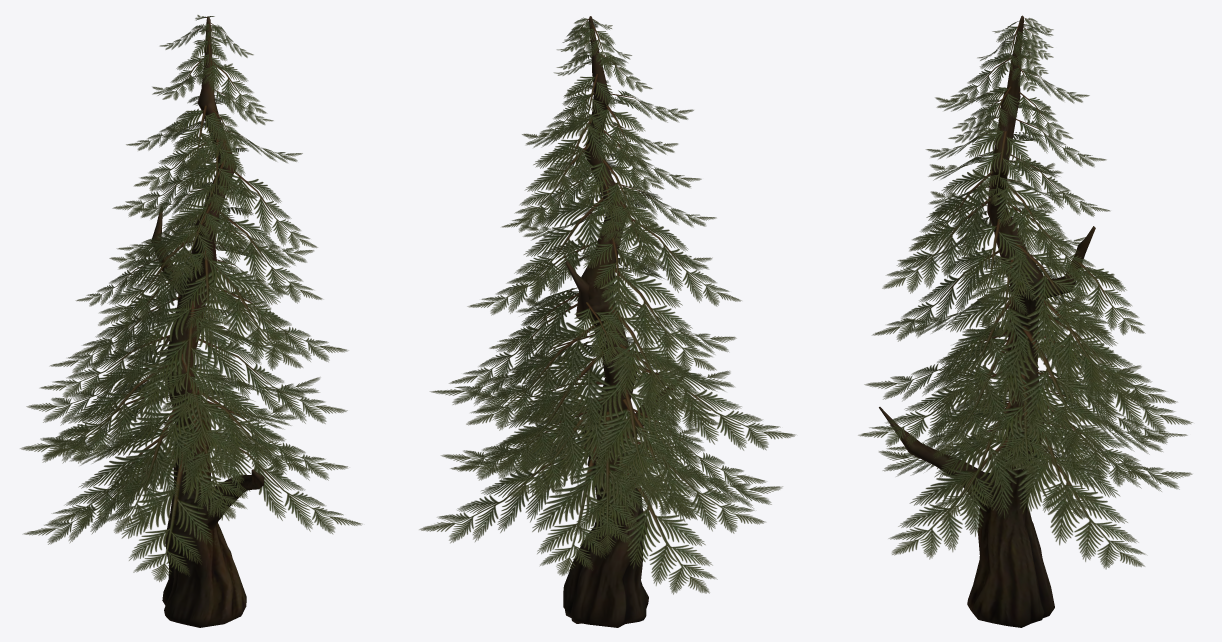
File: pinho_e.gltf
The picture shows the model from 3 angles, left to right: view 1: azimuth 30°, elevation 25°; view 2: azimuth 150°, elevation 25°; view 3: azimuth 270°, elevation 25°; orthographic projection.
Visible parts, largest first — view 1: pinho_e; view 2: pinho_e; view 3: pinho_e.
Part boxes in pixels (x1,y1,x2,y2): pinho_e: [20, 15, 362, 627]; pinho_e: [419, 16, 795, 627]; pinho_e: [858, 15, 1192, 627].
Bounding box in the file's own units: 7.62 × 13 × 7.17.
1 material, 1 textured.
